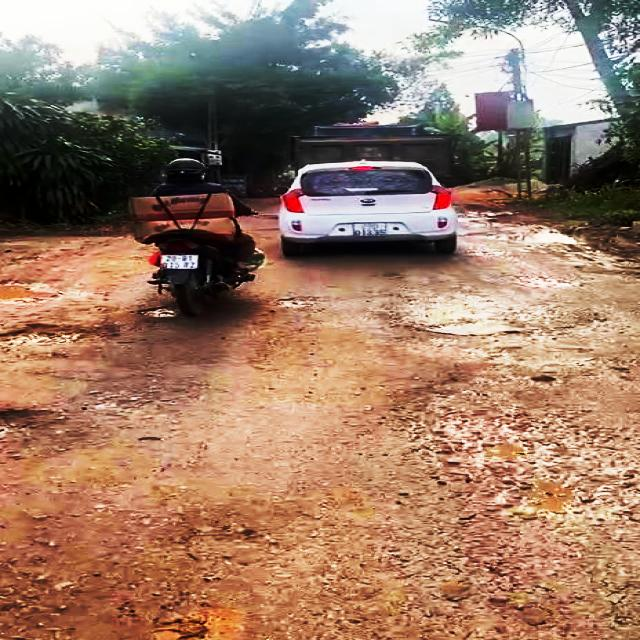pothole: (403, 386, 640, 526), (390, 298, 600, 339), (0, 402, 87, 461), (0, 322, 121, 349), (0, 278, 77, 306), (134, 305, 182, 322)
